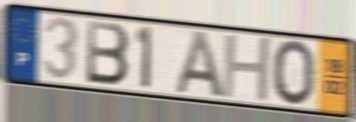1: (133, 24, 153, 92)
3: (42, 16, 83, 83)
A: (173, 29, 228, 100)
B: (85, 18, 132, 89)
H: (220, 34, 274, 104)
O: (271, 38, 317, 108)
